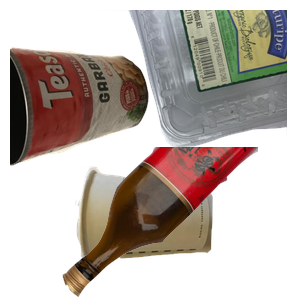glass: (60, 147, 300, 300)
metal: (10, 44, 151, 203)
plastic: (60, 10, 300, 149)
trash: (73, 164, 278, 300)
